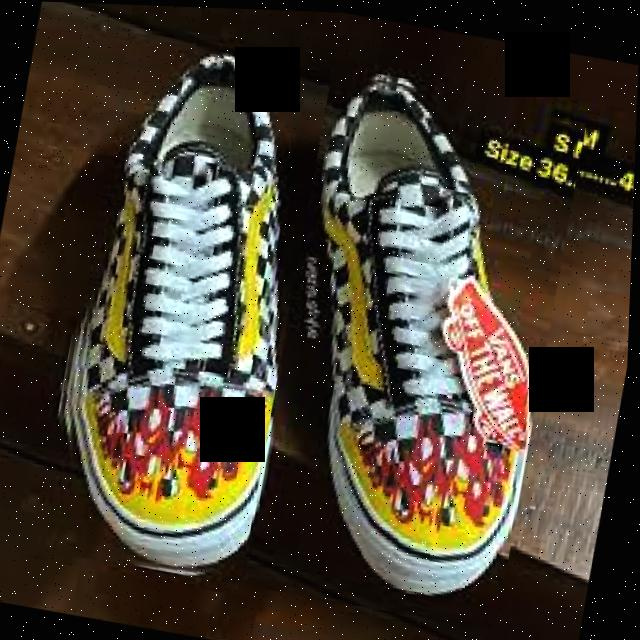shoe: (32, 23, 591, 629), (37, 27, 335, 588)
